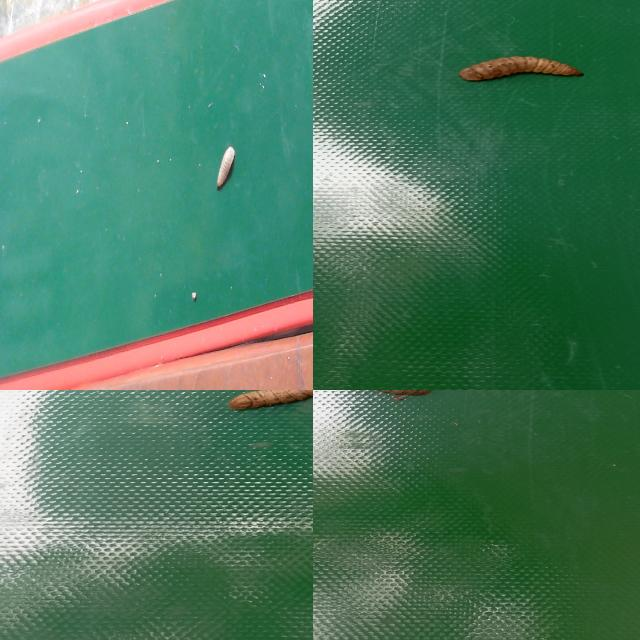Maggot: (458, 55, 584, 85), (227, 390, 313, 413), (214, 148, 236, 193), (368, 390, 433, 400)
